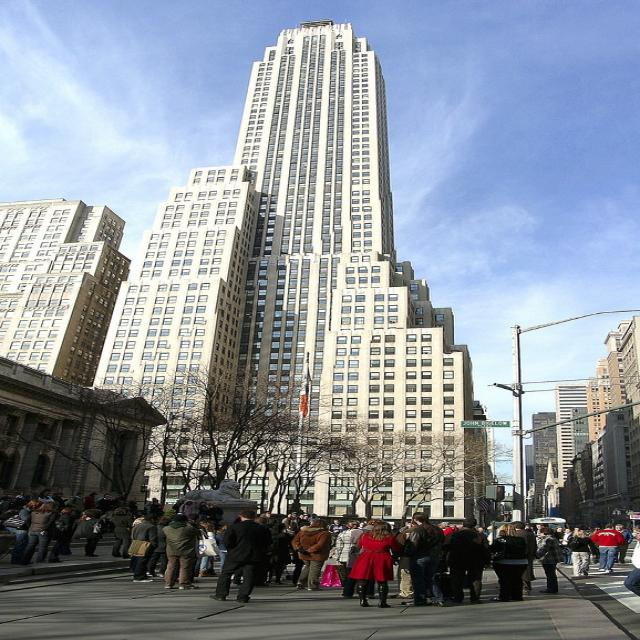body: (207, 508, 276, 604), (344, 520, 406, 608), (439, 516, 492, 605), (399, 510, 447, 608), (340, 518, 385, 600), (485, 522, 530, 602), (159, 512, 204, 590), (289, 518, 334, 592), (523, 574, 640, 601), (387, 516, 422, 600), (16, 500, 59, 566), (4, 499, 44, 565), (126, 513, 162, 583), (531, 526, 566, 594), (330, 519, 363, 589), (509, 521, 537, 596), (264, 522, 294, 586), (70, 507, 108, 557), (589, 523, 627, 573), (620, 523, 639, 619), (106, 505, 138, 559), (46, 507, 76, 564), (145, 517, 173, 578), (566, 528, 600, 577), (288, 521, 312, 587), (554, 557, 634, 575), (197, 530, 222, 578), (253, 516, 280, 556), (612, 523, 636, 564), (460, 580, 500, 604), (214, 526, 229, 575), (34, 488, 56, 521), (559, 526, 575, 566), (327, 518, 348, 548), (248, 596, 345, 602), (257, 511, 278, 538), (95, 492, 115, 520), (0, 494, 16, 529), (204, 502, 225, 527), (13, 489, 39, 509), (198, 519, 230, 534), (64, 491, 85, 512), (148, 498, 166, 522), (280, 510, 310, 524), (196, 501, 211, 524), (178, 498, 195, 518), (143, 496, 157, 520), (83, 492, 100, 511), (51, 492, 71, 508), (196, 575, 218, 589), (130, 512, 148, 528), (435, 524, 460, 535), (170, 499, 185, 515), (387, 523, 401, 538), (398, 521, 414, 533), (476, 526, 491, 538), (538, 523, 554, 534), (552, 525, 567, 536), (534, 523, 546, 535), (305, 512, 319, 522), (357, 520, 368, 530), (572, 525, 592, 530), (524, 524, 532, 529)
